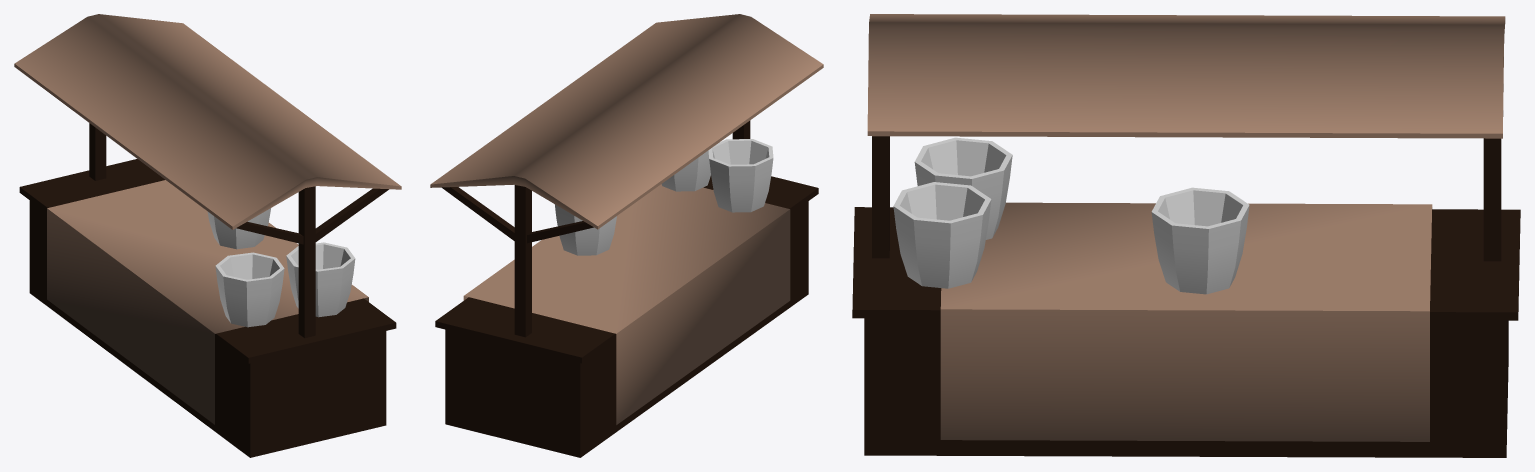
Rendered from ShopTent_v3.fbx.
3 views of the same model, side by side, from view 1: azimuth 30°, elevation 25°; view 2: azimuth 150°, elevation 25°; view 3: azimuth 270°, elevation 25° (orthographic). The views are drawn at different scales.
Parts seen in each view (by area): view 1: Tent_middle, Bucket5, Bucket6, Bucket4; view 2: Tent_middle, Bucket5, Bucket4, Bucket6; view 3: Tent_middle, Bucket6, Bucket4, Bucket5.
Boxes of the visible parts, x1,y1,x2,y2 form: Tent_middle: (14, 14, 401, 457); Bucket5: (215, 252, 284, 327); Bucket6: (286, 242, 355, 317); Bucket4: (207, 208, 270, 249); Tent_middle: (430, 14, 823, 457); Bucket5: (708, 139, 773, 212); Bucket4: (555, 204, 616, 255); Bucket6: (661, 150, 710, 191); Tent_middle: (852, 14, 1520, 457); Bucket6: (893, 182, 991, 288); Bucket4: (1151, 187, 1249, 294); Bucket5: (914, 137, 1012, 239).
Bounding box in the file's own units: 2.71 × 3.98 × 6.38.
